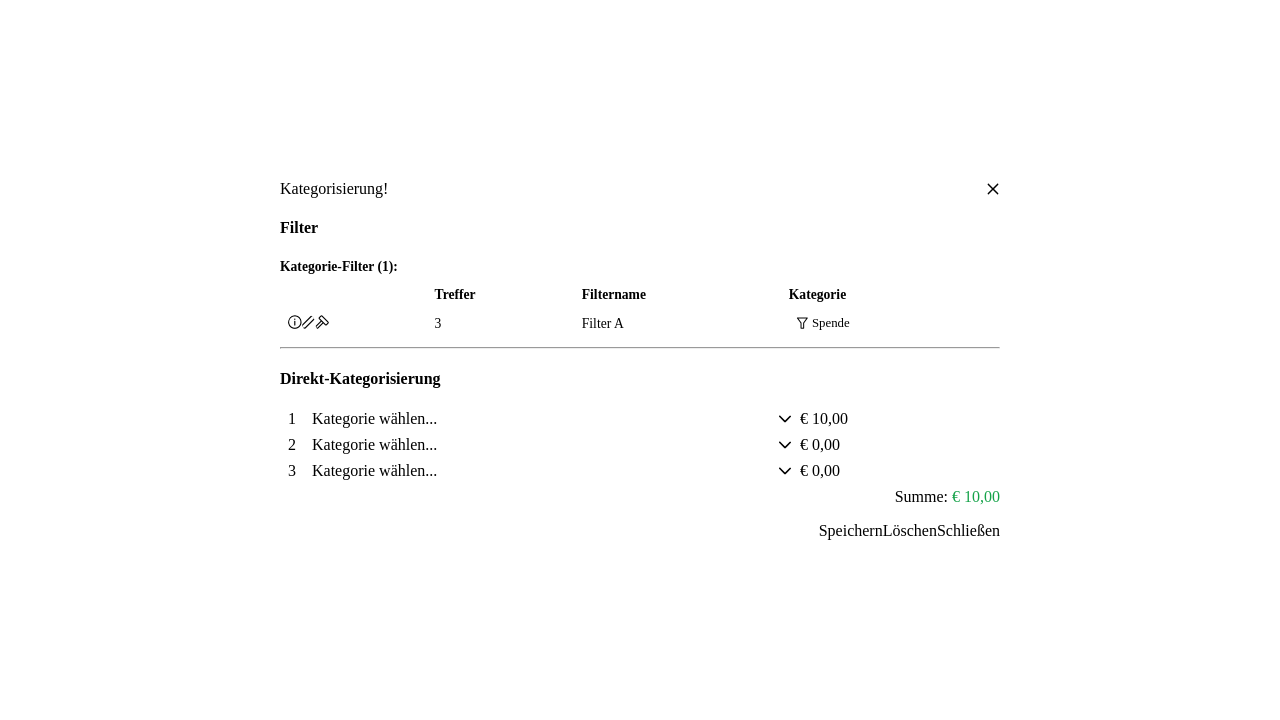
Test: CategoryDirectEditor › through the slot controls › shows the amount limits and the counter-account IBAN of an opened filter
The image size is (1280, 720).
Click the button named "Details". click: (295, 323)
box: [288,315,302,331]
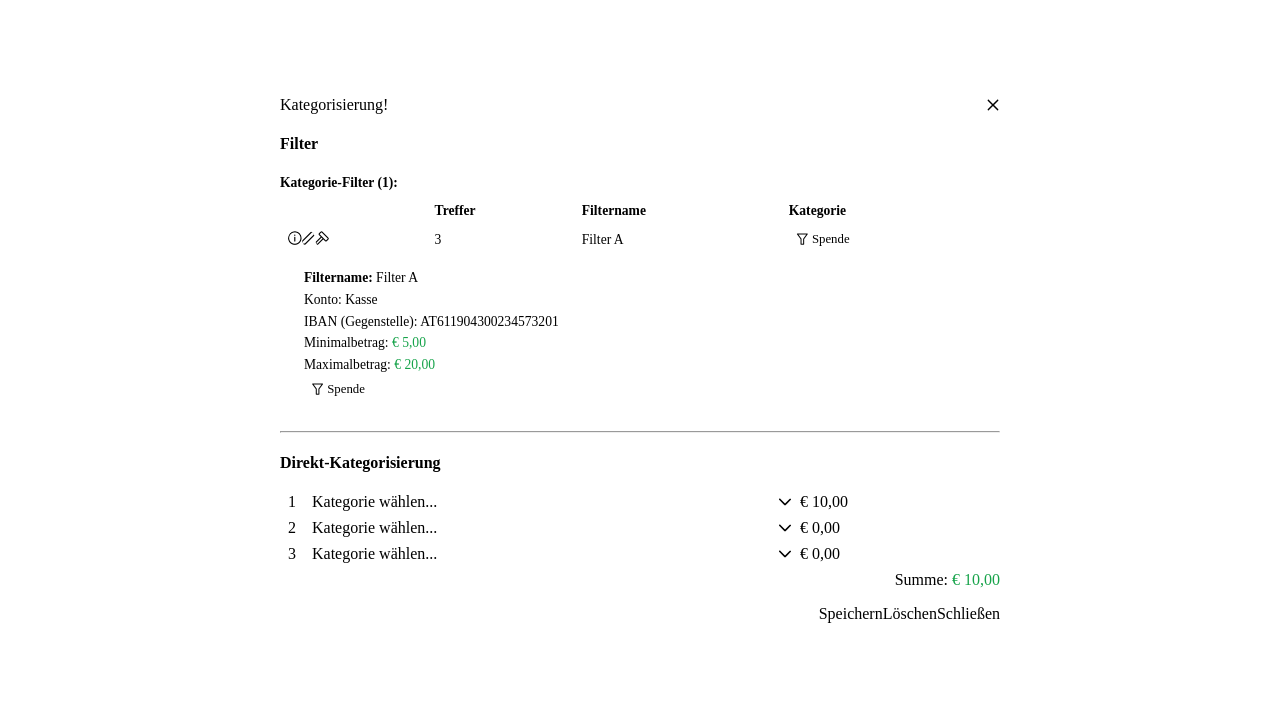
Result: the element with class "filter-details" shows "Minimalbetrag:" at [304,336,392,351]
Result: the element with class "filter-details" shows "5,00" at [392,336,426,351]
Result: the element with class "filter-details" shows "Maximalbetrag:" at [304,358,394,372]
